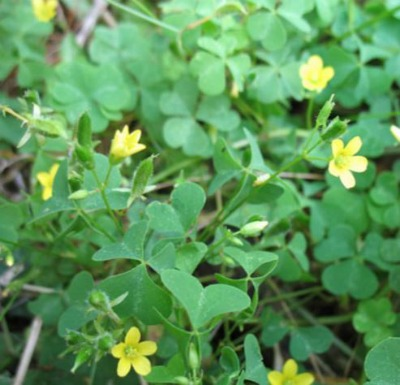oxalis: (22, 123, 400, 371)
